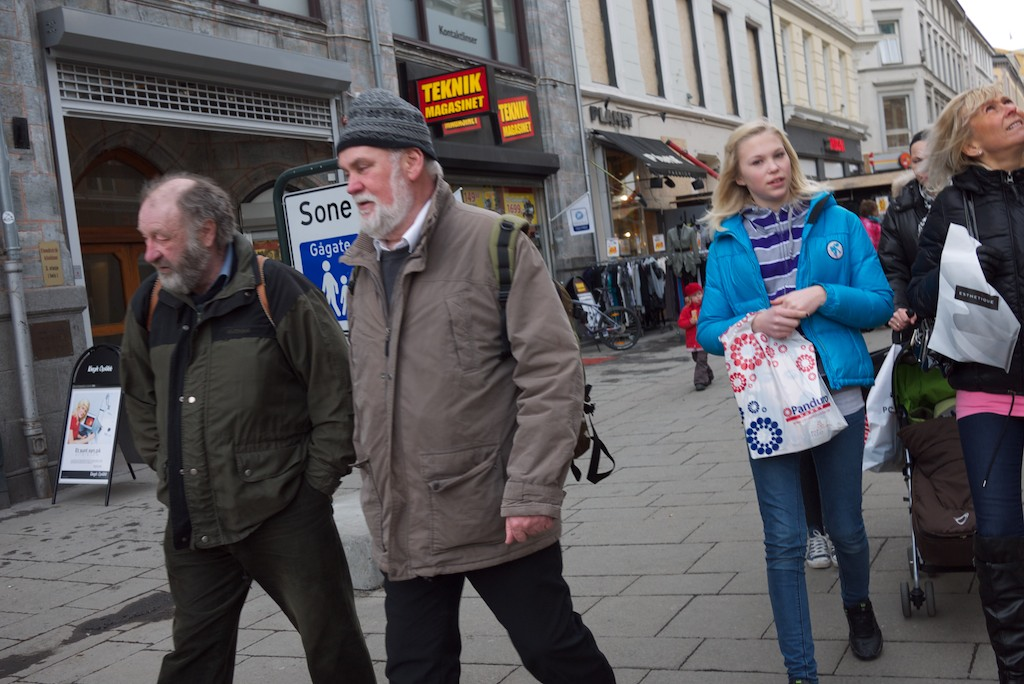man: (321, 94, 658, 684), (98, 150, 350, 530)
women: (666, 116, 896, 663), (904, 56, 1024, 539)
